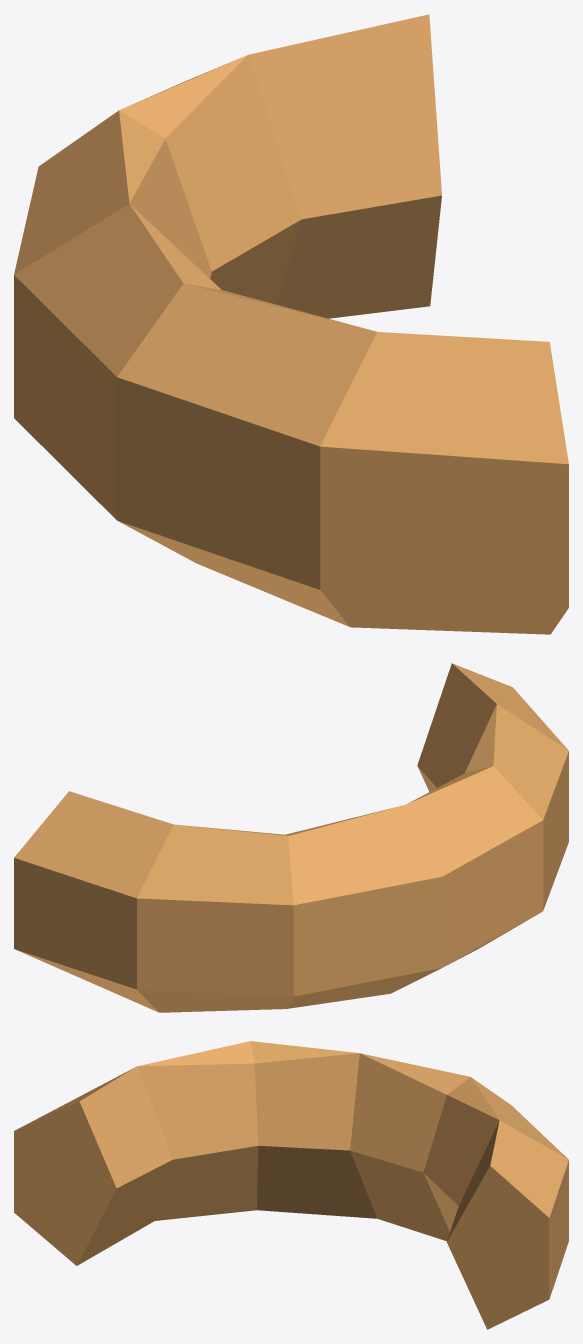
Rendered from Kitchen_Ingredients_O_s_half.fbx.
3 renders of one model, top to bottom at view 1: azimuth 30°, elevation 25°; view 2: azimuth 150°, elevation 25°; view 3: azimuth 270°, elevation 25°, orthographic. The views are drawn at different scales.
Parts seen in each view (by area): view 1: O:s_half; view 2: O:s_half; view 3: O:s_half.
Part boxes in pixels (x1,y1,x2,y2): O:s_half: [14, 14, 568, 634]; O:s_half: [14, 663, 568, 1012]; O:s_half: [14, 1041, 568, 1329].
Bounding box in the file's own units: 1 × 0.5 × 1.5.
